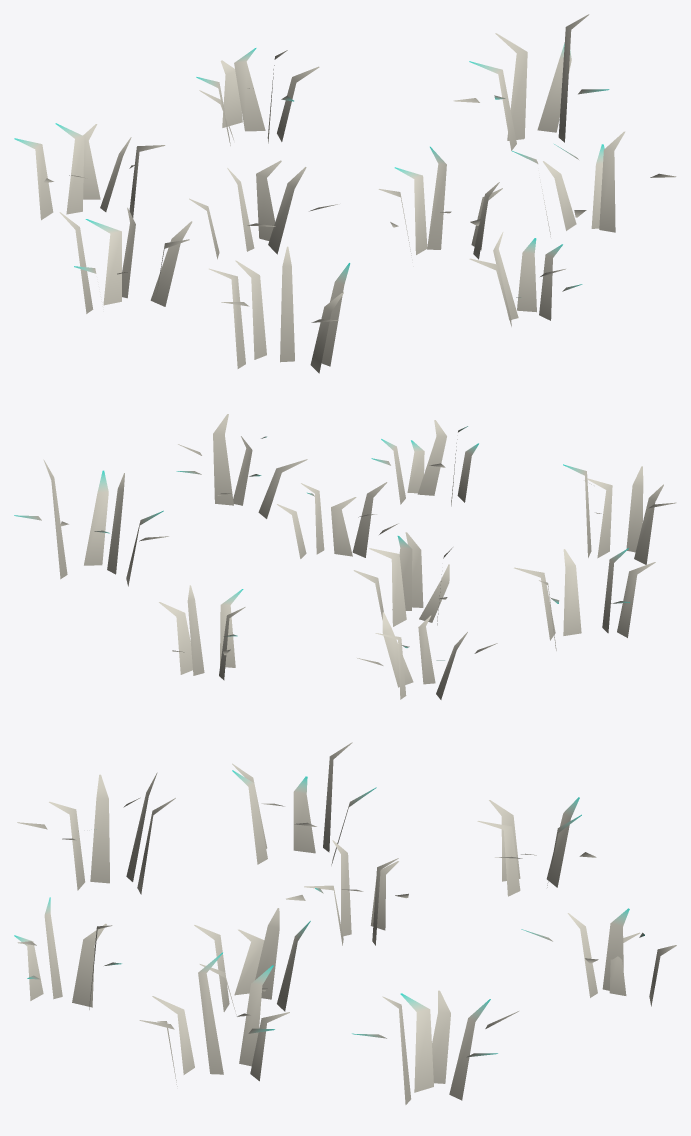
Rendered from grass_meadow_straw_lod0.glb.
3 renders of one model, top to bottom at view 1: azimuth 30°, elevation 25°; view 2: azimuth 150°, elevation 25°; view 3: azimuth 270°, elevation 25°, orthographic. The views are drawn at different scales.
Parts seen in each view (by area): view 1: grass_meadow_straw_LOD0; view 2: grass_meadow_straw_LOD0; view 3: grass_meadow_straw_LOD0.
Part boxes in pixels (x1=…): grass_meadow_straw_LOD0: x1=14, y1=14, x2=676, y2=373; grass_meadow_straw_LOD0: x1=14, y1=414, x2=676, y2=699; grass_meadow_straw_LOD0: x1=14, y1=742, x2=676, y2=1104.
Size of the model in its own units: 4.3 by 0.8519 by 4.04.
